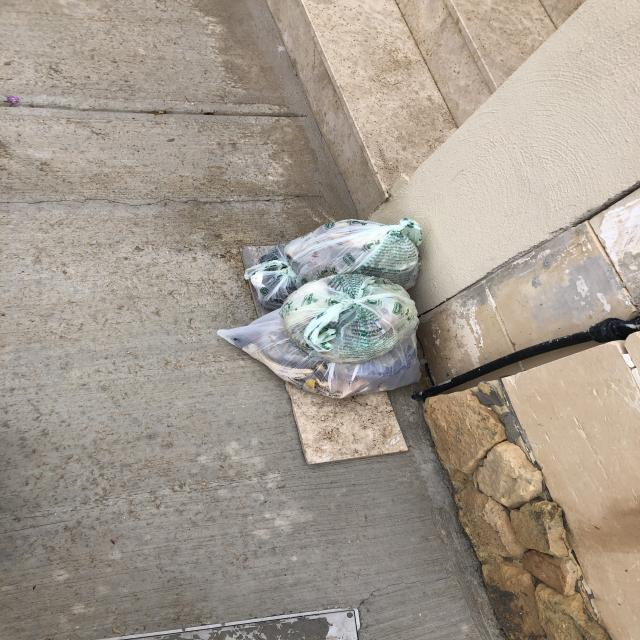Organic Waste -White Bag-: (210, 276, 438, 403), (240, 212, 430, 307)
